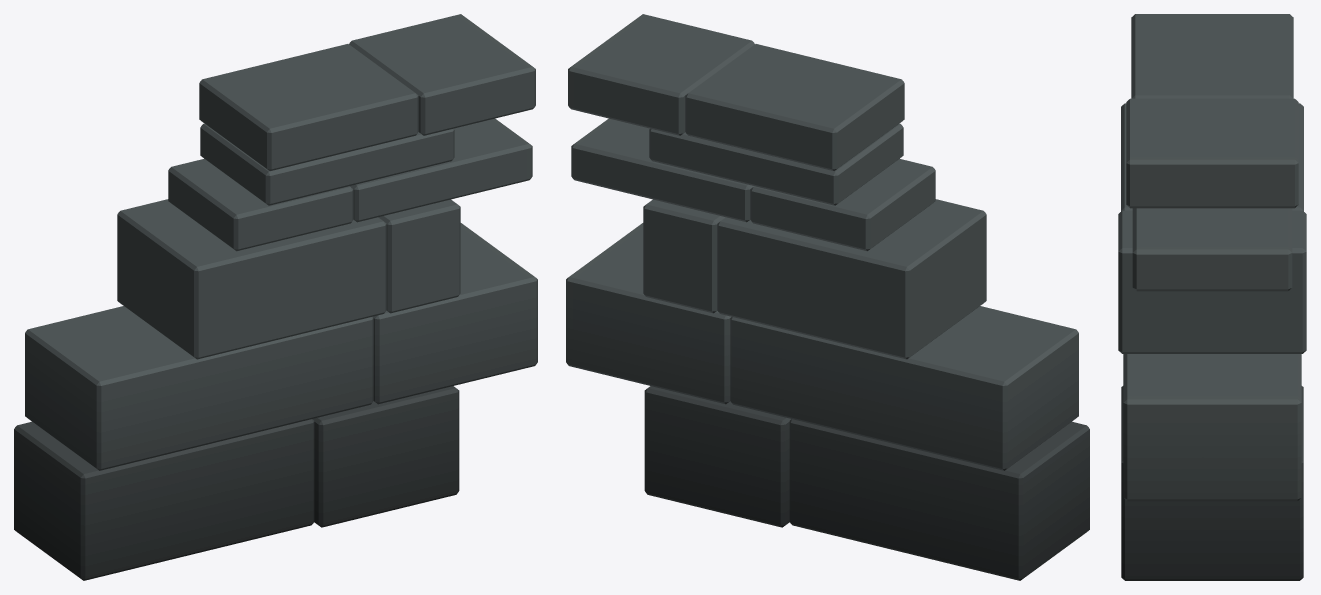
The model's file is WallCapb1.glb.
The picture shows the model from 3 angles, left to right: view 1: azimuth 30°, elevation 25°; view 2: azimuth 150°, elevation 25°; view 3: azimuth 270°, elevation 25°; orthographic projection. The views are drawn at different scales.
Parts seen in each view (by area): view 1: WallCapb1.col; view 2: WallCapb1.col; view 3: WallCapb1.col.
Boxes of the visible parts, x1,y1,x2,y2 form: WallCapb1.col: (14, 14, 537, 580); WallCapb1.col: (566, 14, 1089, 580); WallCapb1.col: (1118, 14, 1306, 580).
Bounding box in the file's own units: 1.53 × 1.32 × 0.4829.
Materials: 1 (1 with a texture image).
